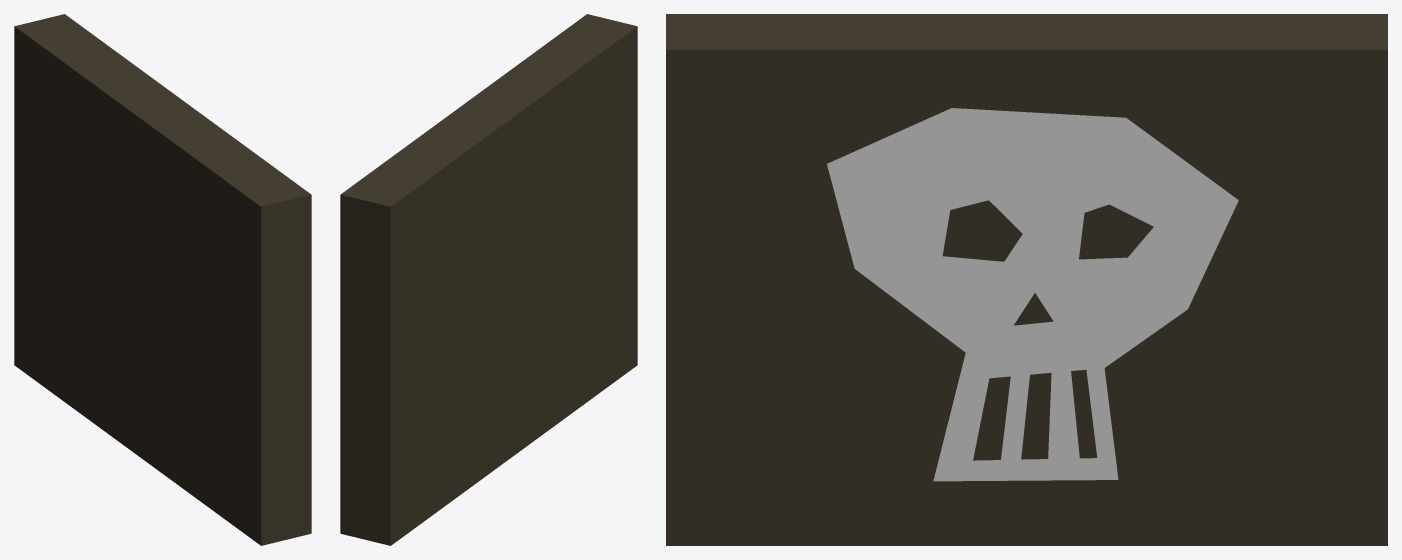
The model's file is sign.glb.
The picture shows the model from 3 angles, left to right: view 1: azimuth 30°, elevation 25°; view 2: azimuth 150°, elevation 25°; view 3: azimuth 270°, elevation 25°; orthographic projection. The views are drawn at different scales.
Visible parts, largest first — view 1: Cube; view 2: Cube; view 3: Cube.
Boxes of the visible parts, left/top/right/bottom form: Cube: left=14, top=14, right=311, bottom=545; Cube: left=340, top=14, right=637, bottom=545; Cube: left=666, top=14, right=1387, bottom=545.
Bounding box in the file's own units: 0.3105 × 2 × 2.64.
